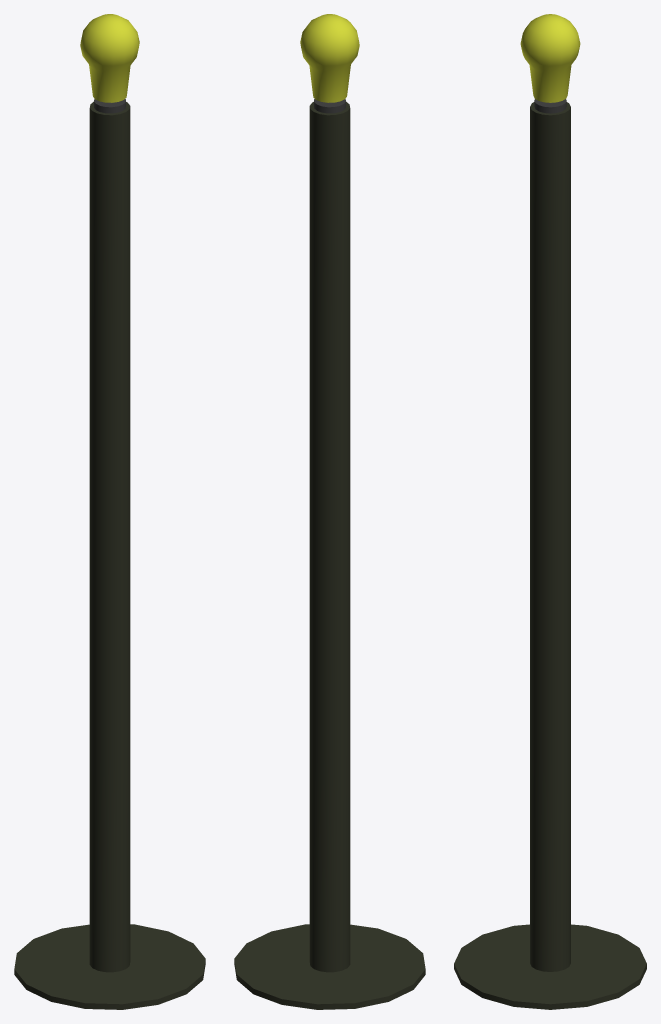
Rendered from standing Lamp without cover.fbx.
The picture shows the model from 3 angles, left to right: view 1: azimuth 30°, elevation 25°; view 2: azimuth 150°, elevation 25°; view 3: azimuth 270°, elevation 25°; orthographic projection.
Parts seen in each view (by area): view 1: Cylinder, Cylinder_1, Sphere; view 2: Cylinder, Cylinder_1, Sphere; view 3: Cylinder, Cylinder_1, Sphere.
Part boxes in pixels (<box>): Cylinder: <box>89,101,130,972</box>; Cylinder_1: <box>14,924,205,1009</box>; Sphere: <box>80,14,139,102</box>; Cylinder: <box>309,101,350,972</box>; Cylinder_1: <box>234,924,425,1009</box>; Sphere: <box>300,14,359,102</box>; Cylinder: <box>530,102,570,971</box>; Cylinder_1: <box>454,924,646,1009</box>; Sphere: <box>520,14,580,102</box>.
Size of the model in its own units: 100 by 545 by 100.
